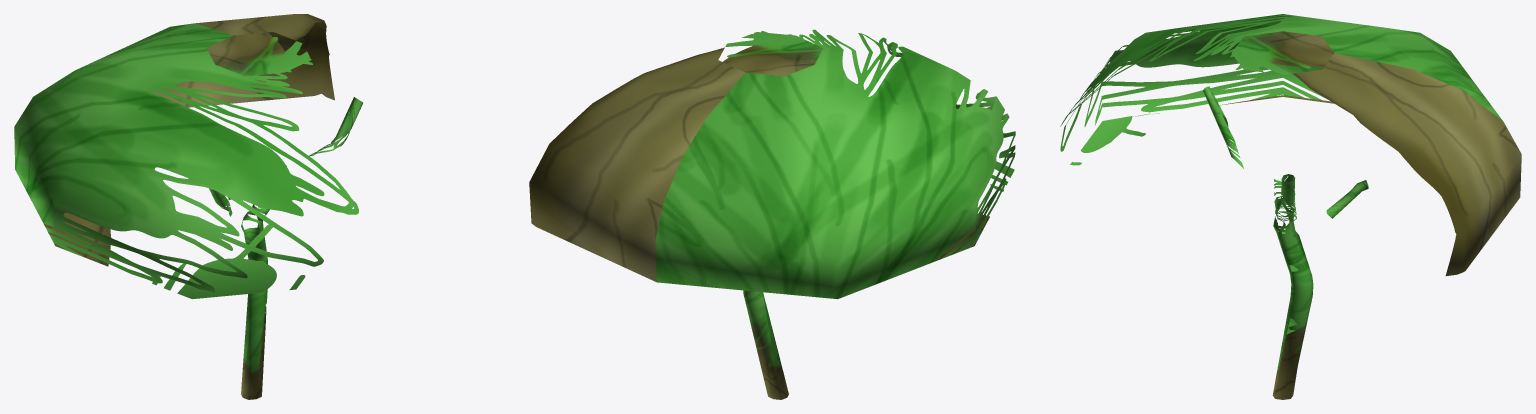
The model's file is Tree.dae.
3 views of the same model, side by side, from view 1: azimuth 30°, elevation 25°; view 2: azimuth 150°, elevation 25°; view 3: azimuth 270°, elevation 25° (orthographic).
Visible parts, largest first — view 1: Arvere; view 2: Arvere; view 3: Arvere.
Boxes of the visible parts, x1,y1,x2,y2 form: Arvere: (14, 14, 362, 399); Arvere: (529, 29, 1015, 399); Arvere: (1060, 14, 1521, 399).
Size of the model in its own units: 26.92 by 26.92 by 21.54.
